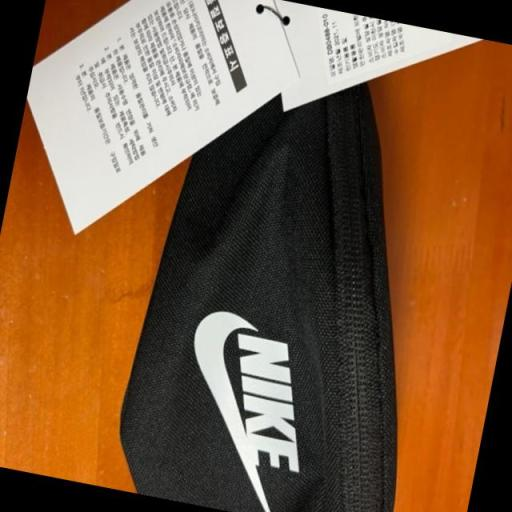Nike: (166, 300, 275, 477), (210, 332, 322, 480)
